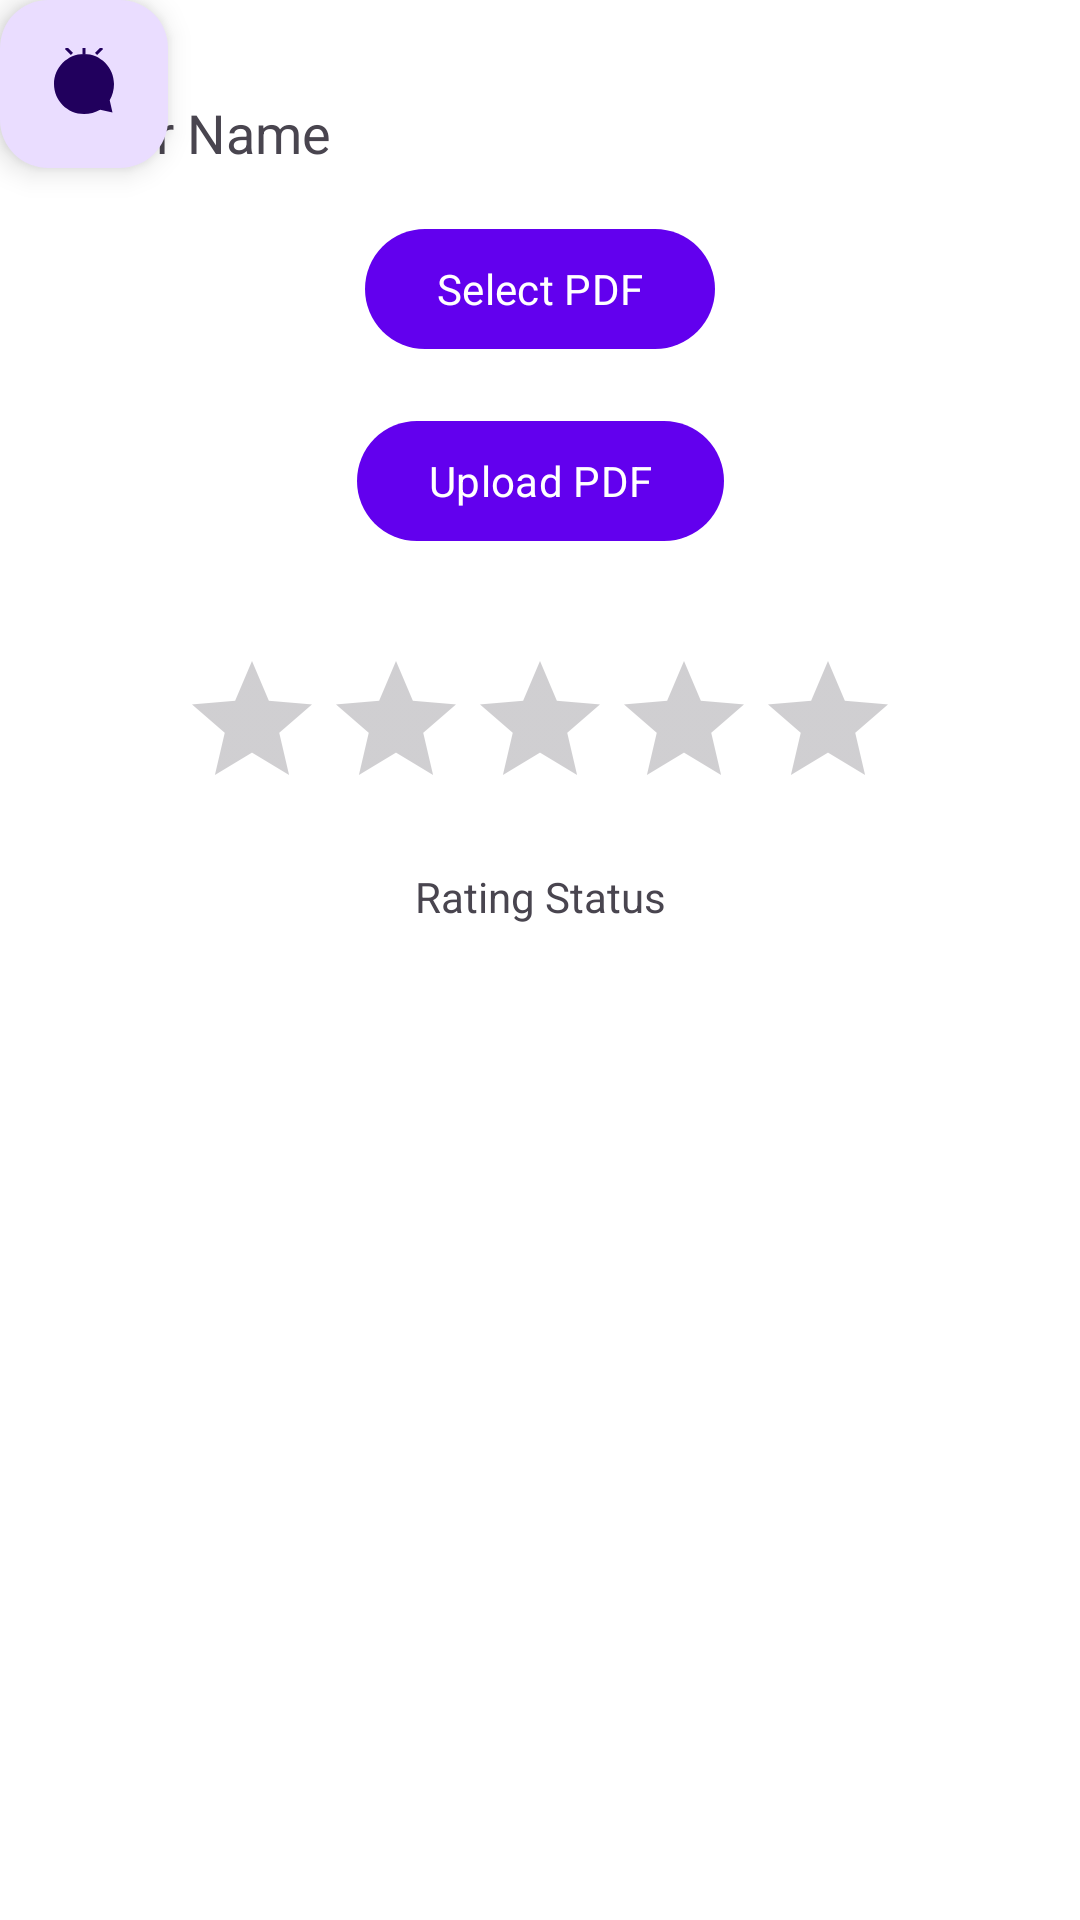

Where icons sit on this 1080px x 1920px app screen, as (x1, y1, x2, y2):
Go to Chat: (0, 0, 168, 168)
